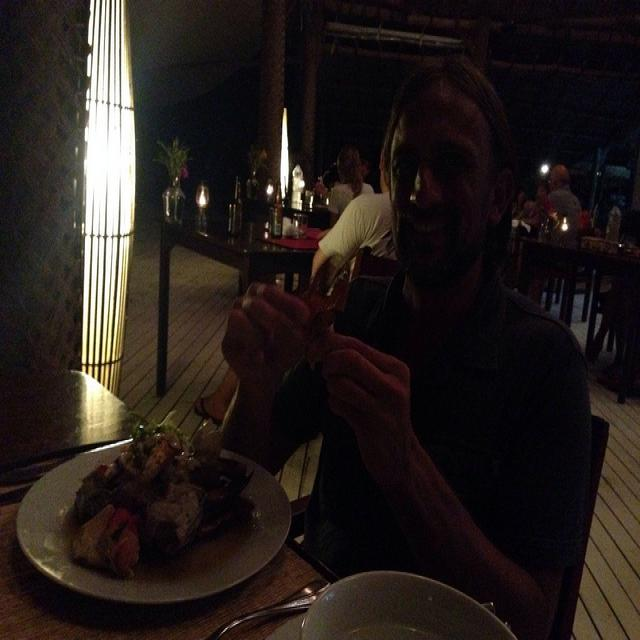Cup: (188, 167, 216, 234)
People: (279, 62, 530, 637), (302, 138, 377, 256), (543, 146, 596, 242)
Table: (0, 331, 314, 640), (152, 145, 315, 324), (523, 219, 639, 341)
